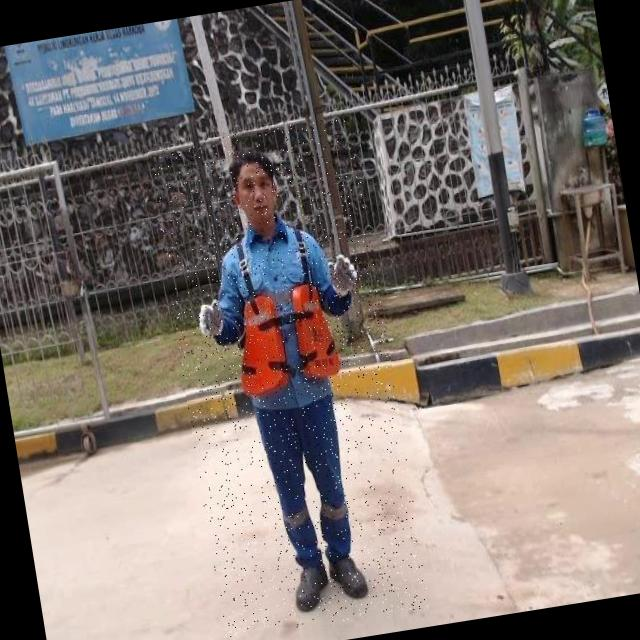safety_vest: (230, 283, 344, 402)
vehicle: (147, 116, 430, 640)
work_boots: (328, 547, 376, 610), (288, 558, 338, 618)
